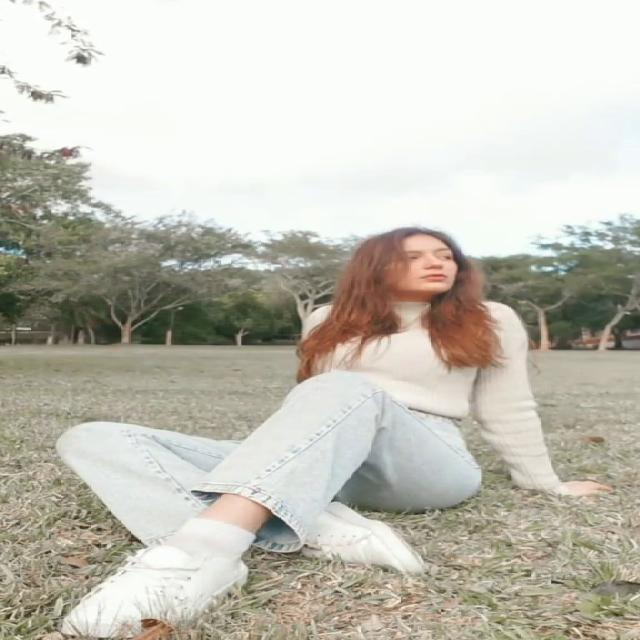sentado: (56, 229, 612, 618)
